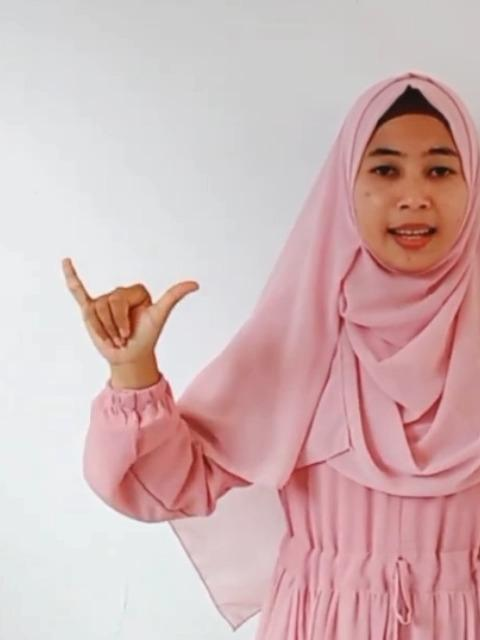Y: (57, 252, 200, 358)
